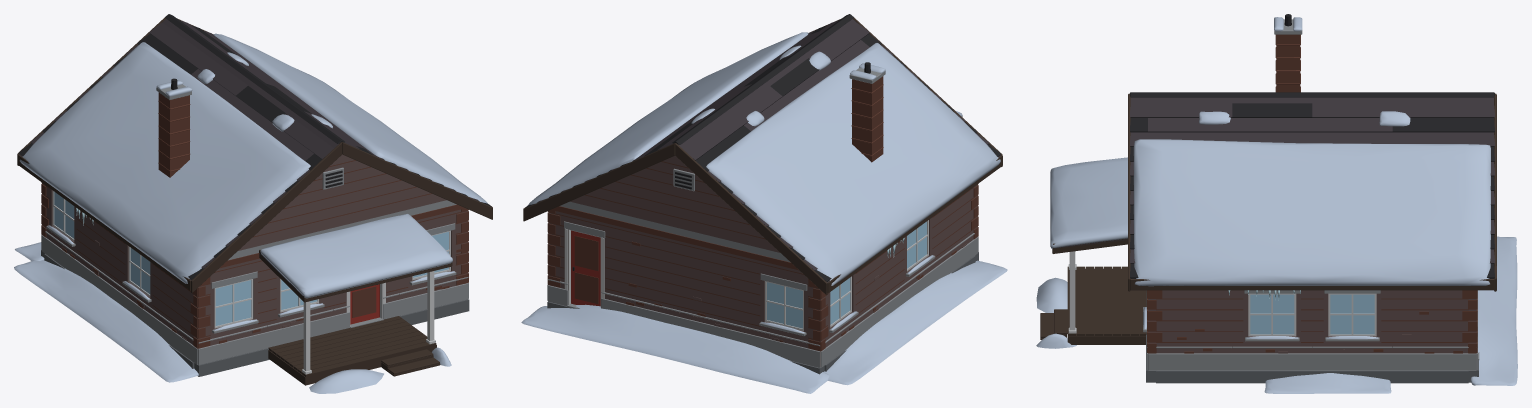
Rendered from house_small_C.glb.
3 renders of one model, left to right at view 1: azimuth 30°, elevation 25°; view 2: azimuth 150°, elevation 25°; view 3: azimuth 270°, elevation 25°, orthographic. The views are drawn at different scales.
Visible parts, largest first — view 1: Roof, Floor0, Walls0_S, Walls0_W, Walls0_S_Stub, Window_0, Door_0, Walls0_W_Stub, Window_6, Window_7, Walls0_N; view 2: Roof, Walls0_N, Floor0, Walls0_W, Walls0_N_Stub, Door_1, Window_3, Walls0_W_Stub, Window_6, Window_7; view 3: Roof, Walls0_E, Floor0, Window_5, Window_4, Walls0_E_Stub, Walls0_S, Walls0_N.
Boxes of the visible parts, bbox=[...] form: Roof: bbox=[17, 14, 492, 302]; Floor0: bbox=[14, 242, 469, 393]; Walls0_S: bbox=[190, 204, 468, 364]; Walls0_W: bbox=[45, 186, 194, 361]; Walls0_S_Stub: bbox=[192, 277, 468, 363]; Window_0: bbox=[215, 280, 251, 325]; Door_0: bbox=[350, 284, 379, 324]; Walls0_W_Stub: bbox=[45, 231, 193, 344]; Window_6: bbox=[130, 248, 150, 294]; Window_7: bbox=[54, 192, 74, 238]; Walls0_N: bbox=[41, 182, 48, 253]; Roof: bbox=[523, 14, 1002, 295]; Walls0_N: bbox=[547, 206, 828, 367]; Floor0: bbox=[521, 252, 1007, 393]; Walls0_W: bbox=[824, 187, 974, 364]; Walls0_N_Stub: bbox=[547, 279, 825, 367]; Door_1: bbox=[571, 230, 600, 306]; Window_3: bbox=[767, 282, 802, 328]; Walls0_W_Stub: bbox=[825, 233, 974, 347]; Window_6: bbox=[907, 221, 926, 268]; Window_7: bbox=[830, 277, 850, 324]; Roof: bbox=[1050, 14, 1496, 300]; Walls0_E: bbox=[1156, 290, 1468, 370]; Floor0: bbox=[1036, 236, 1517, 393]; Window_5: bbox=[1330, 294, 1374, 334]; Window_4: bbox=[1250, 294, 1294, 334]; Walls0_E_Stub: bbox=[1156, 346, 1468, 353]; Walls0_S: bbox=[1143, 290, 1162, 370]; Walls0_N: bbox=[1462, 290, 1479, 370].
Size of what is drawn, in the model's own units: 9.87 by 6.88 by 12.01.
